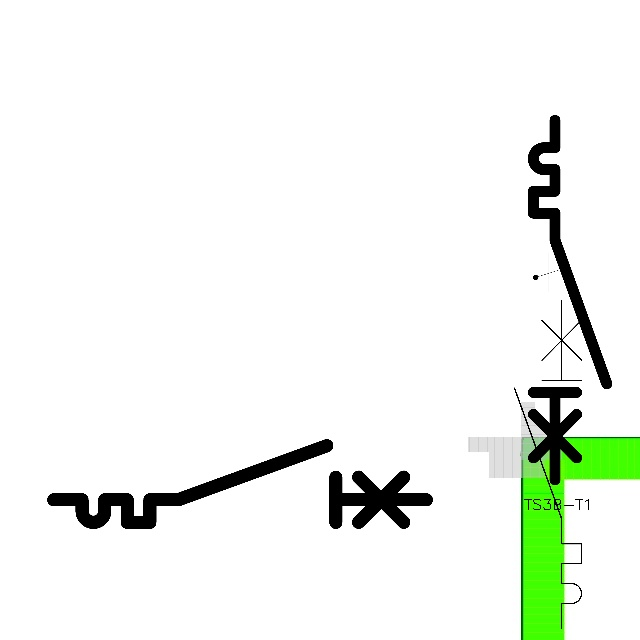interruptor_termomagnetico: (44, 436, 436, 532), (524, 111, 616, 489), (506, 292, 590, 637)
